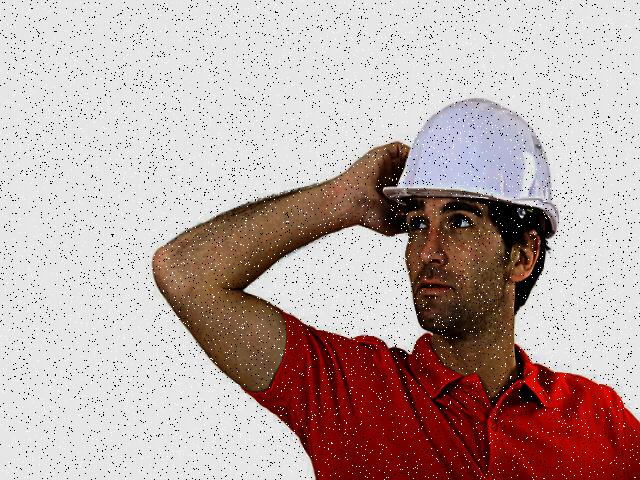Helmet: (374, 90, 565, 240)
